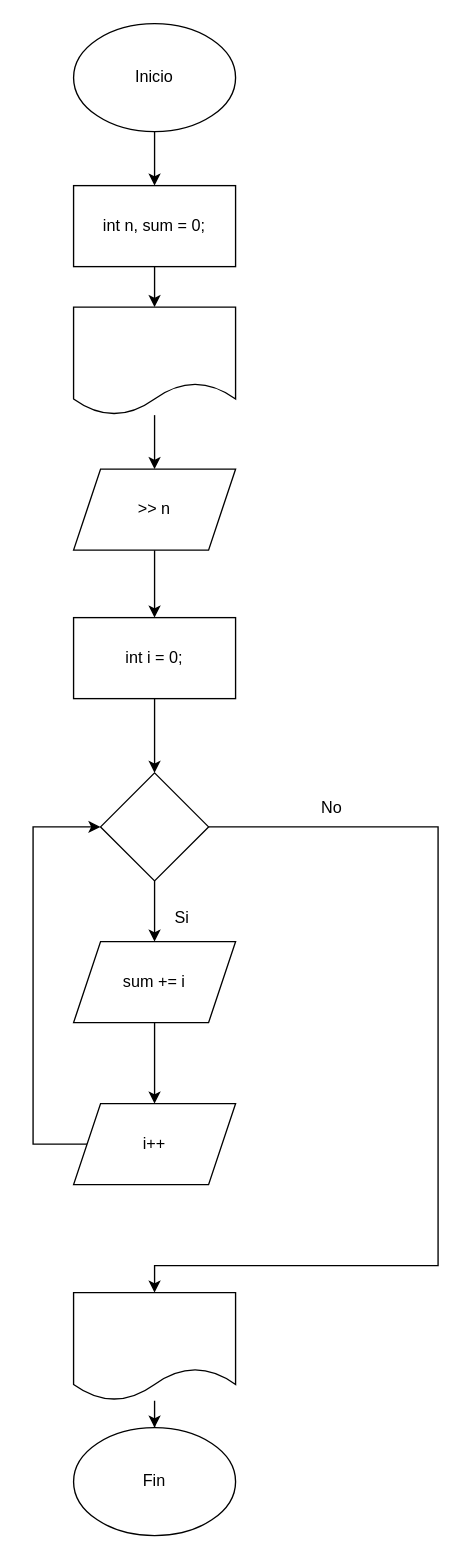
The diagram is 473 pixels wide and 1559 high, and some of its shapes have lost their labels. The box of each missing label's shape, as (x1, y1, x2, y2) in pixels:
El resultado de la suma es: << sum: (72, 1291, 236, 1401)
i <= n;: (99, 772, 209, 881)
Ingrese el numero que quiera sacarle el factorial: (72, 306, 236, 415)
